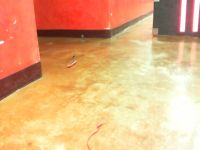switch: (179, 1, 187, 33), (192, 1, 199, 32)
